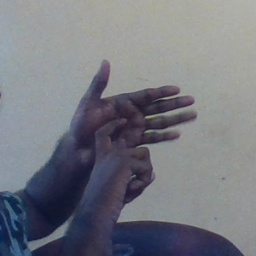R: (59, 56, 200, 206)
